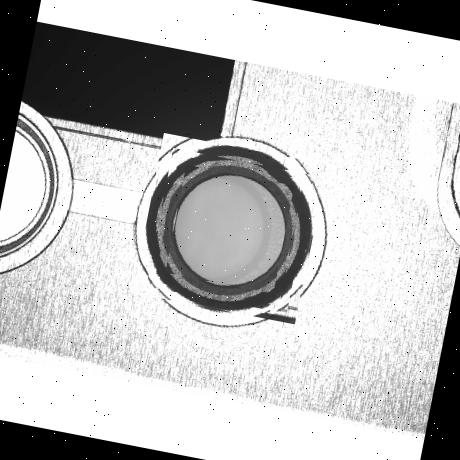Hole: (132, 132, 326, 326)
Hole2: (146, 148, 314, 314)
Hole3: (154, 155, 304, 307)
Hole4: (165, 165, 293, 293)
